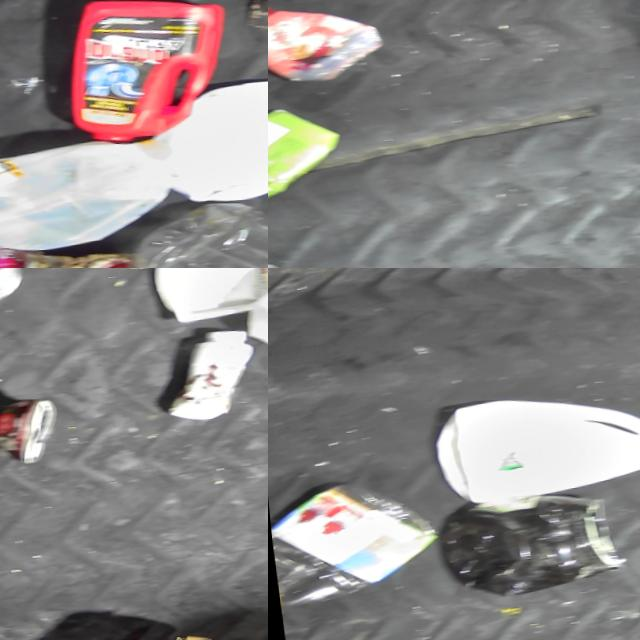can: (0, 398, 53, 469)
milk_jug: (423, 387, 640, 507), (0, 141, 167, 250), (146, 68, 268, 208), (229, 268, 268, 374)
non_white_jug: (51, 0, 226, 151), (429, 491, 620, 603), (268, 0, 388, 91), (268, 104, 339, 217)
plastic_bottle: (268, 475, 437, 606), (127, 195, 268, 268)
